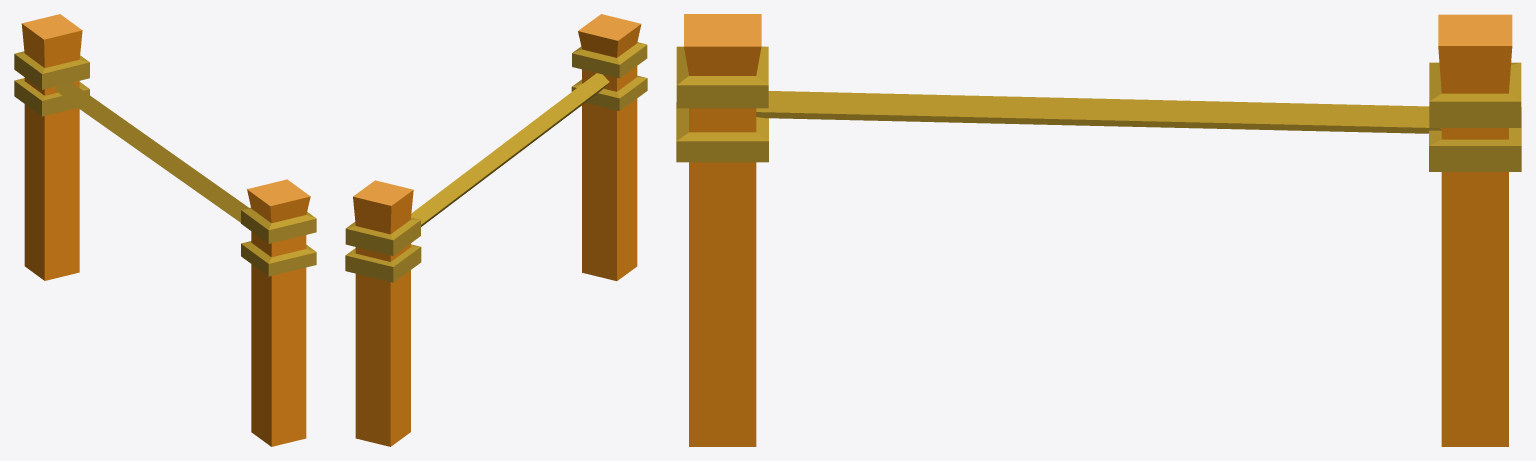
Rendered from ropefence 1.fbx.
3 views of the same model, side by side, from view 1: azimuth 30°, elevation 25°; view 2: azimuth 150°, elevation 25°; view 3: azimuth 270°, elevation 25° (orthographic). The views are drawn at different scales.
Visible parts, largest first — view 1: rope_fence1; view 2: rope_fence1; view 3: rope_fence1.
Boxes of the visible parts, x1,y1,x2,y2 form: rope_fence1: (14, 14, 316, 446); rope_fence1: (345, 14, 647, 446); rope_fence1: (676, 14, 1521, 446).
Size of the model in its own units: 0.9905 by 4.77 by 9.08.
